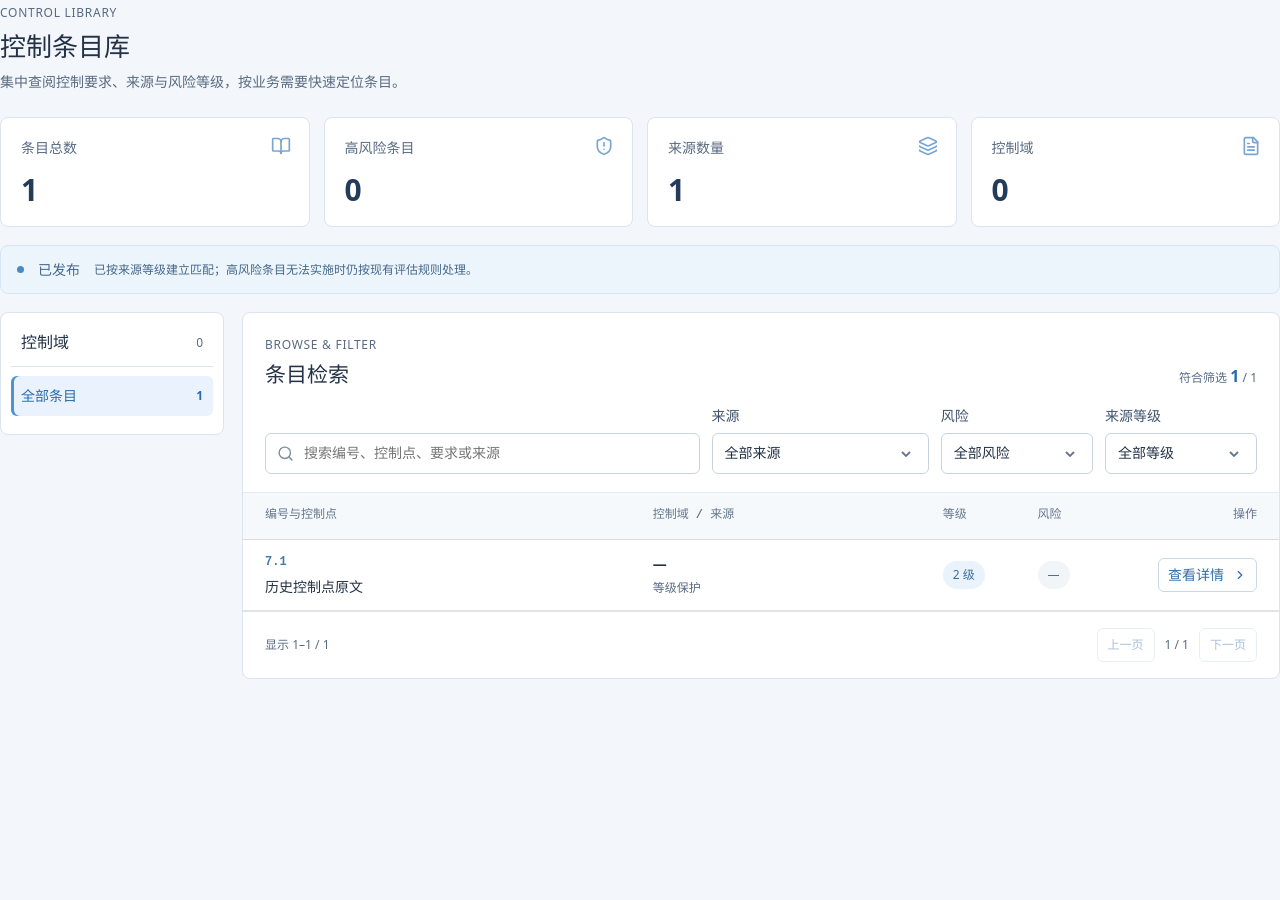
Test: keeps older read-only source releases browsable when the newer endpoint is unavailable
Check: the text "历史控制点原文" is shown, box [265, 577, 363, 596]
What coordinates should you click on to do the following:
click the button "查看详情"
I would click on:
 (1208, 575)
Its box is [1158, 558, 1257, 592].
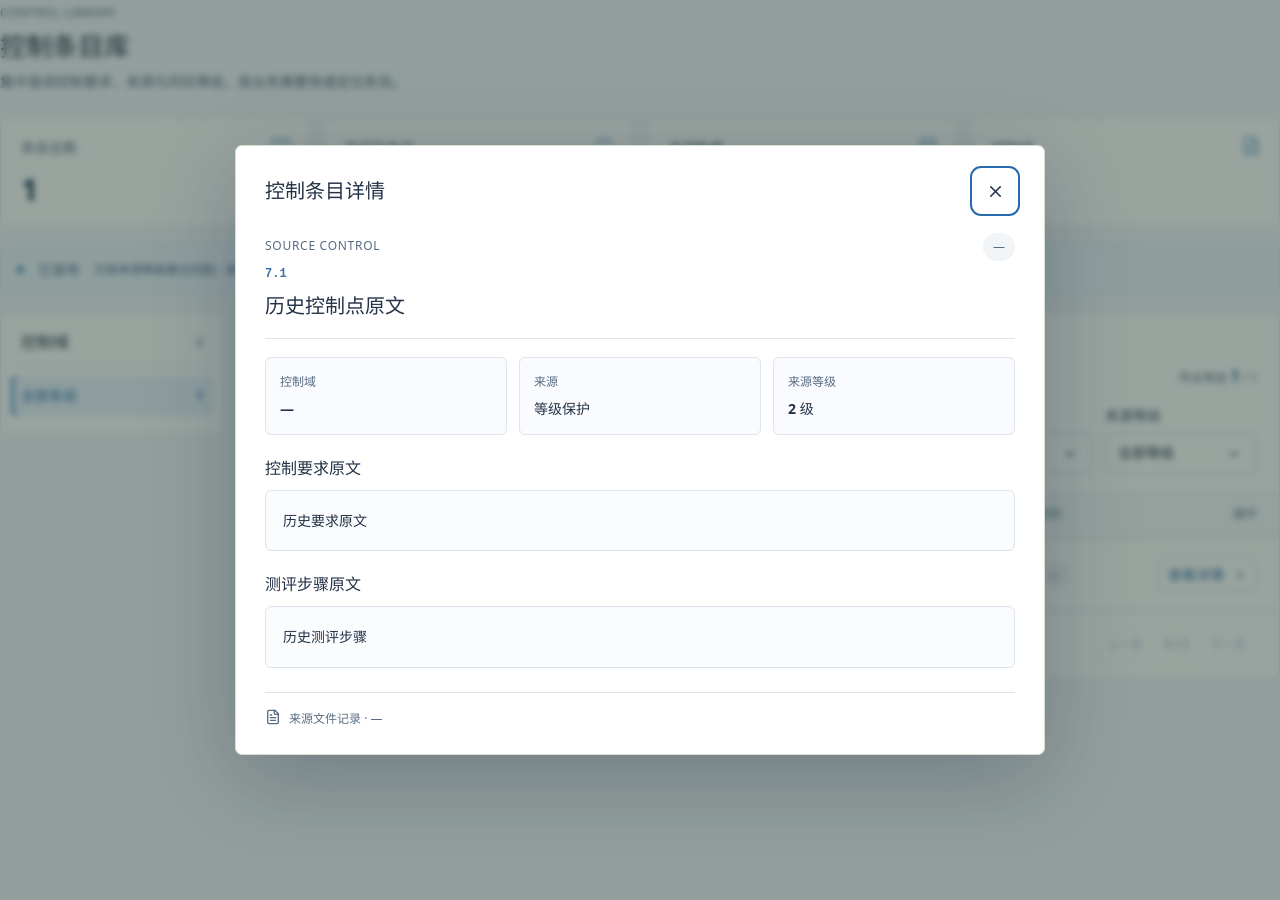
Check: the text "历史要求原文" is shown, box [265, 490, 1015, 552]
Check: the text "历史测评步骤" is shown, box [265, 606, 1015, 668]
